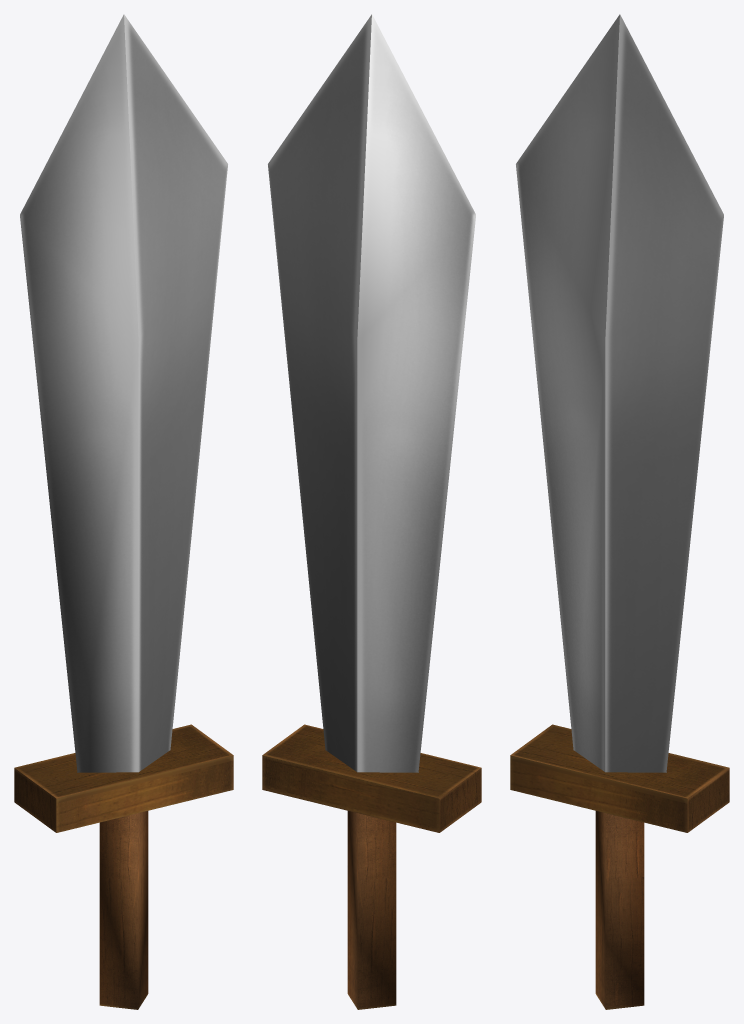
Rendered from sword.FBX.
3 renders of one model, left to right at view 1: azimuth 30°, elevation 25°; view 2: azimuth 150°, elevation 25°; view 3: azimuth 330°, elevation 25°, orthographic.
Parts seen in each view (by area): view 1: sword; view 2: sword; view 3: sword.
Part boxes in pixels (x1,y1,x2,y2): sword: (14, 14, 233, 1009); sword: (262, 14, 481, 1009); sword: (510, 14, 729, 1009).
Size of the model in its own units: 15.06 by 68.07 by 5.28.
